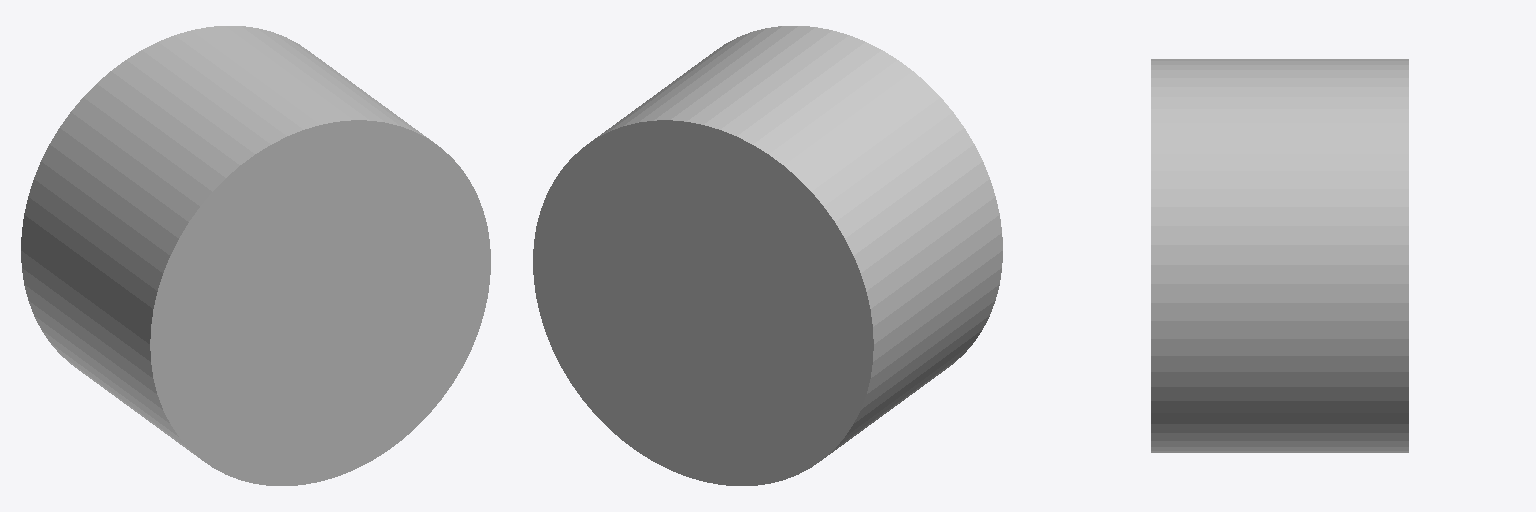
File: lidar_body_visual.obj
The picture shows the model from 3 angles: view 1: azimuth 30°, elevation 25°; view 2: azimuth 150°, elevation 25°; view 3: azimuth 270°, elevation 25°; orthographic projection.
Parts seen in each view (by area): view 1: lidar_body; view 2: lidar_body; view 3: lidar_body.
Part boxes in pixels (bbox=[...]): lidar_body: bbox=[21, 26, 490, 485]; lidar_body: bbox=[533, 26, 1002, 485]; lidar_body: bbox=[1151, 59, 1408, 452].
Size of the model in its own units: 7 by 7 by 4.6.